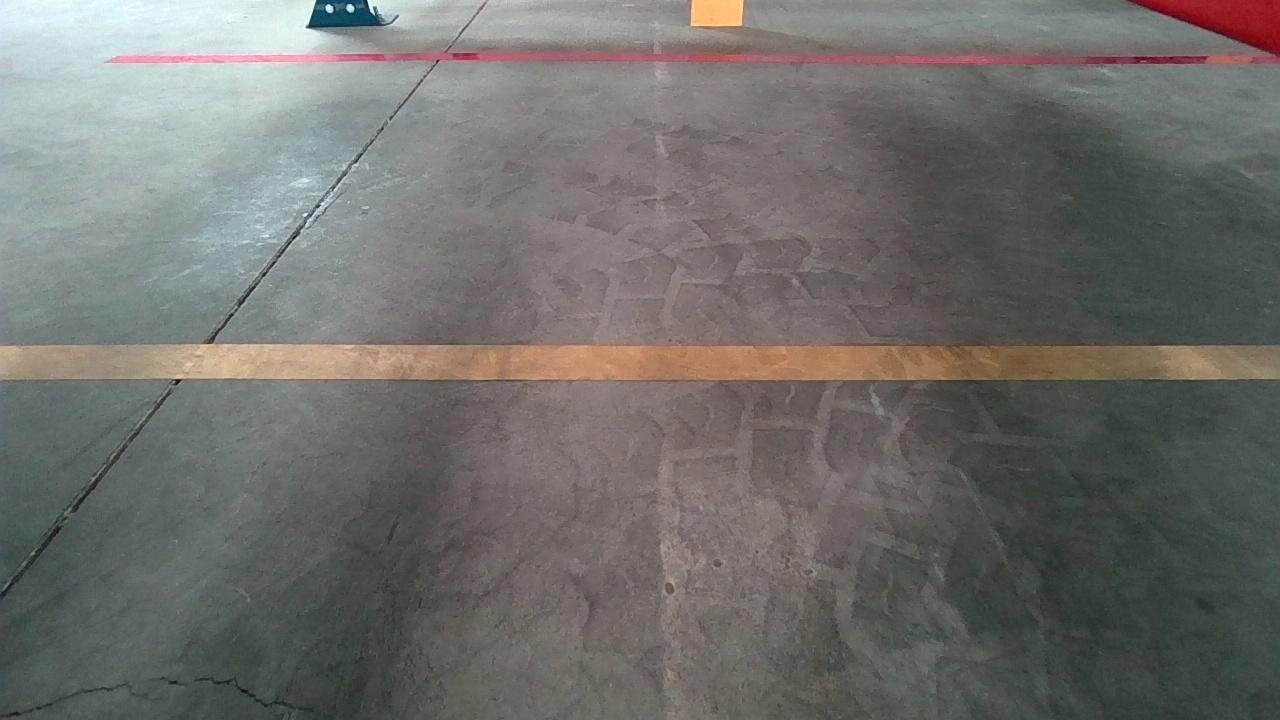orange_strip: (690, 0, 744, 27)
red_line: (104, 52, 1280, 64)
yellow_line: (0, 343, 1280, 383)
